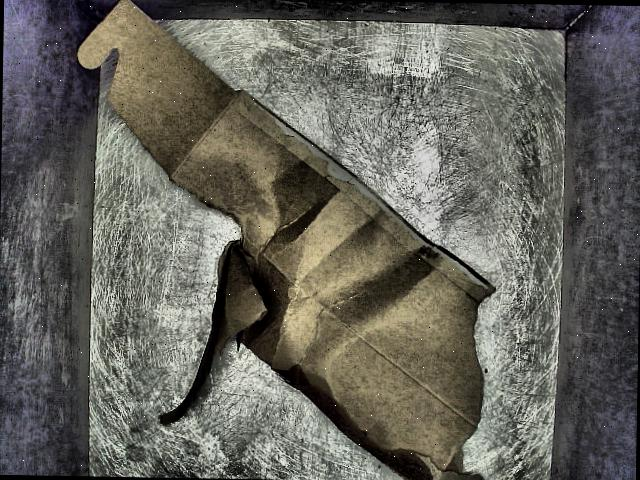Paper: (24, 0, 516, 480)
